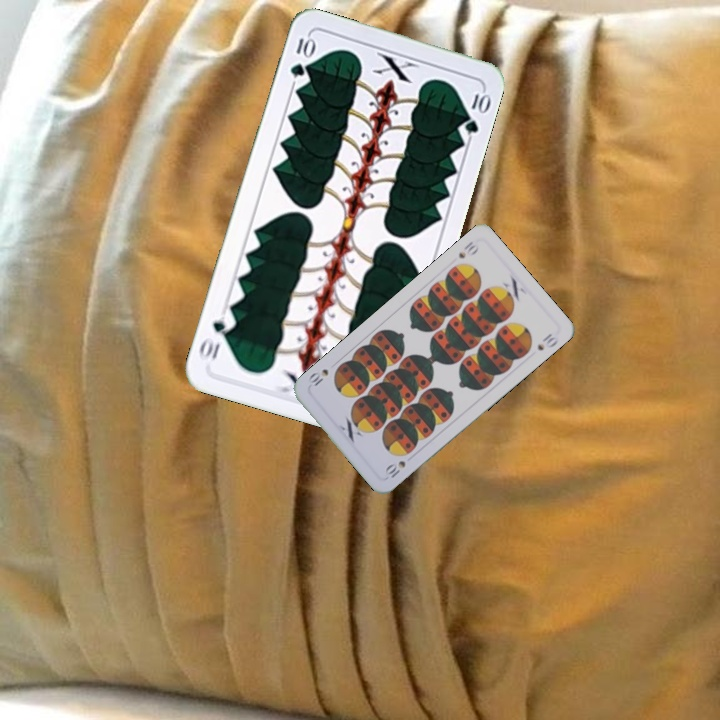G10: (286, 31, 316, 80)
S10: (382, 456, 408, 481), (454, 237, 481, 261)
